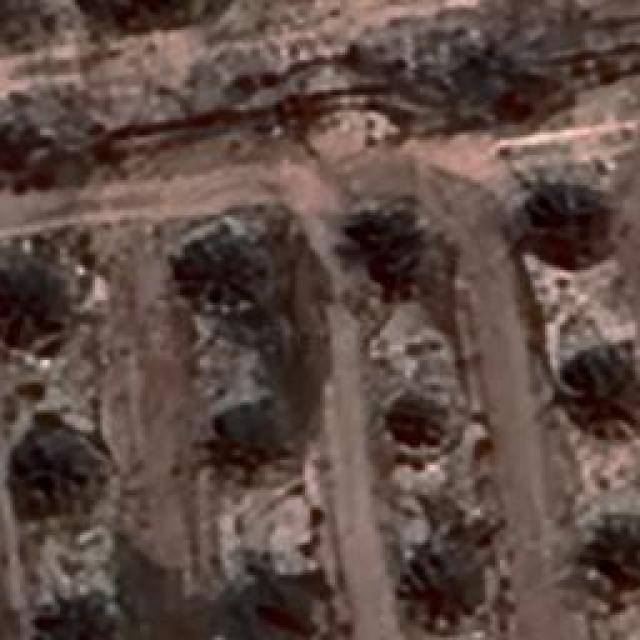PalmTree: (550, 334, 638, 442), (181, 220, 279, 315), (395, 548, 495, 634), (12, 424, 100, 518), (378, 388, 472, 462), (524, 175, 606, 258), (354, 216, 428, 306), (211, 409, 294, 479), (0, 266, 68, 344), (230, 590, 320, 640), (595, 504, 640, 594), (48, 602, 138, 640)
